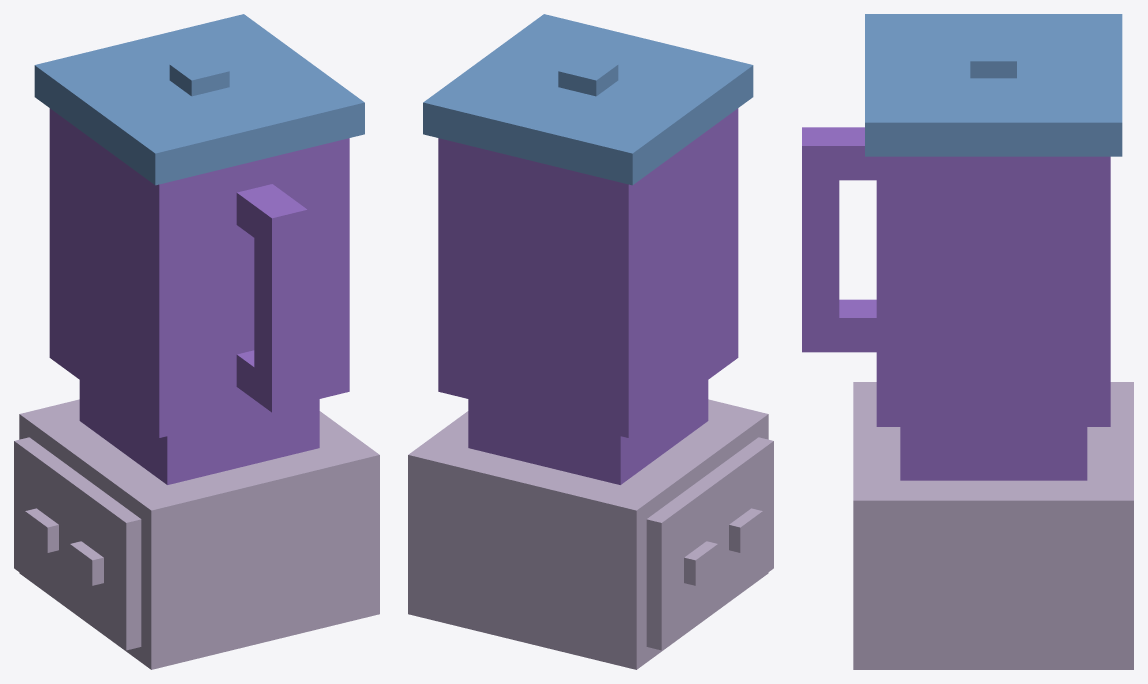
The model's file is blender2.fbx.
3 views of the same model, side by side, from view 1: azimuth 30°, elevation 25°; view 2: azimuth 150°, elevation 25°; view 3: azimuth 270°, elevation 25° (orthographic). The views are drawn at different scales.
Visible parts, largest first — view 1: blenderJair, blender, lid; view 2: blenderJair, blender, lid; view 3: blenderJair, blender, lid.
Boxes of the visible parts, x1,y1,x2,y2 form: blenderJair: (49, 108, 349, 484); blender: (14, 399, 379, 669); lid: (34, 14, 364, 185); blenderJair: (438, 108, 738, 484); blender: (408, 399, 773, 669); lid: (423, 14, 753, 185); blenderJair: (802, 127, 1110, 480); blender: (853, 382, 1133, 669); lid: (865, 14, 1122, 156).
Size of the model in its own units: 50.25 by 99 by 53.25.
